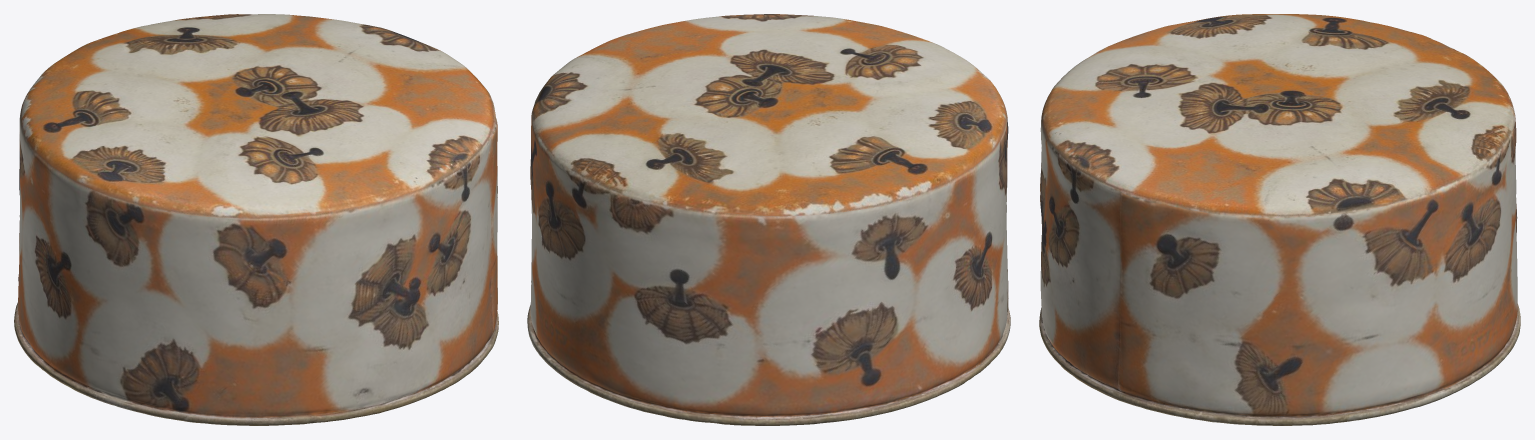
The picture shows the model from 3 angles, left to right: view 1: azimuth 30°, elevation 25°; view 2: azimuth 150°, elevation 25°; view 3: azimuth 270°, elevation 25°; orthographic projection.
Parts seen in each view (by area): view 1: Object_2; view 2: Object_2; view 3: Object_2.
Part boxes in pixels (x1=…): Object_2: x1=14, y1=14, x2=498, y2=425; Object_2: x1=527, y1=14, x2=1010, y2=425; Object_2: x1=1039, y1=14, x2=1520, y2=425.
Size of the model in its own units: 0.1314 by 0.0706 by 0.1315.
1 material, 1 textured.
